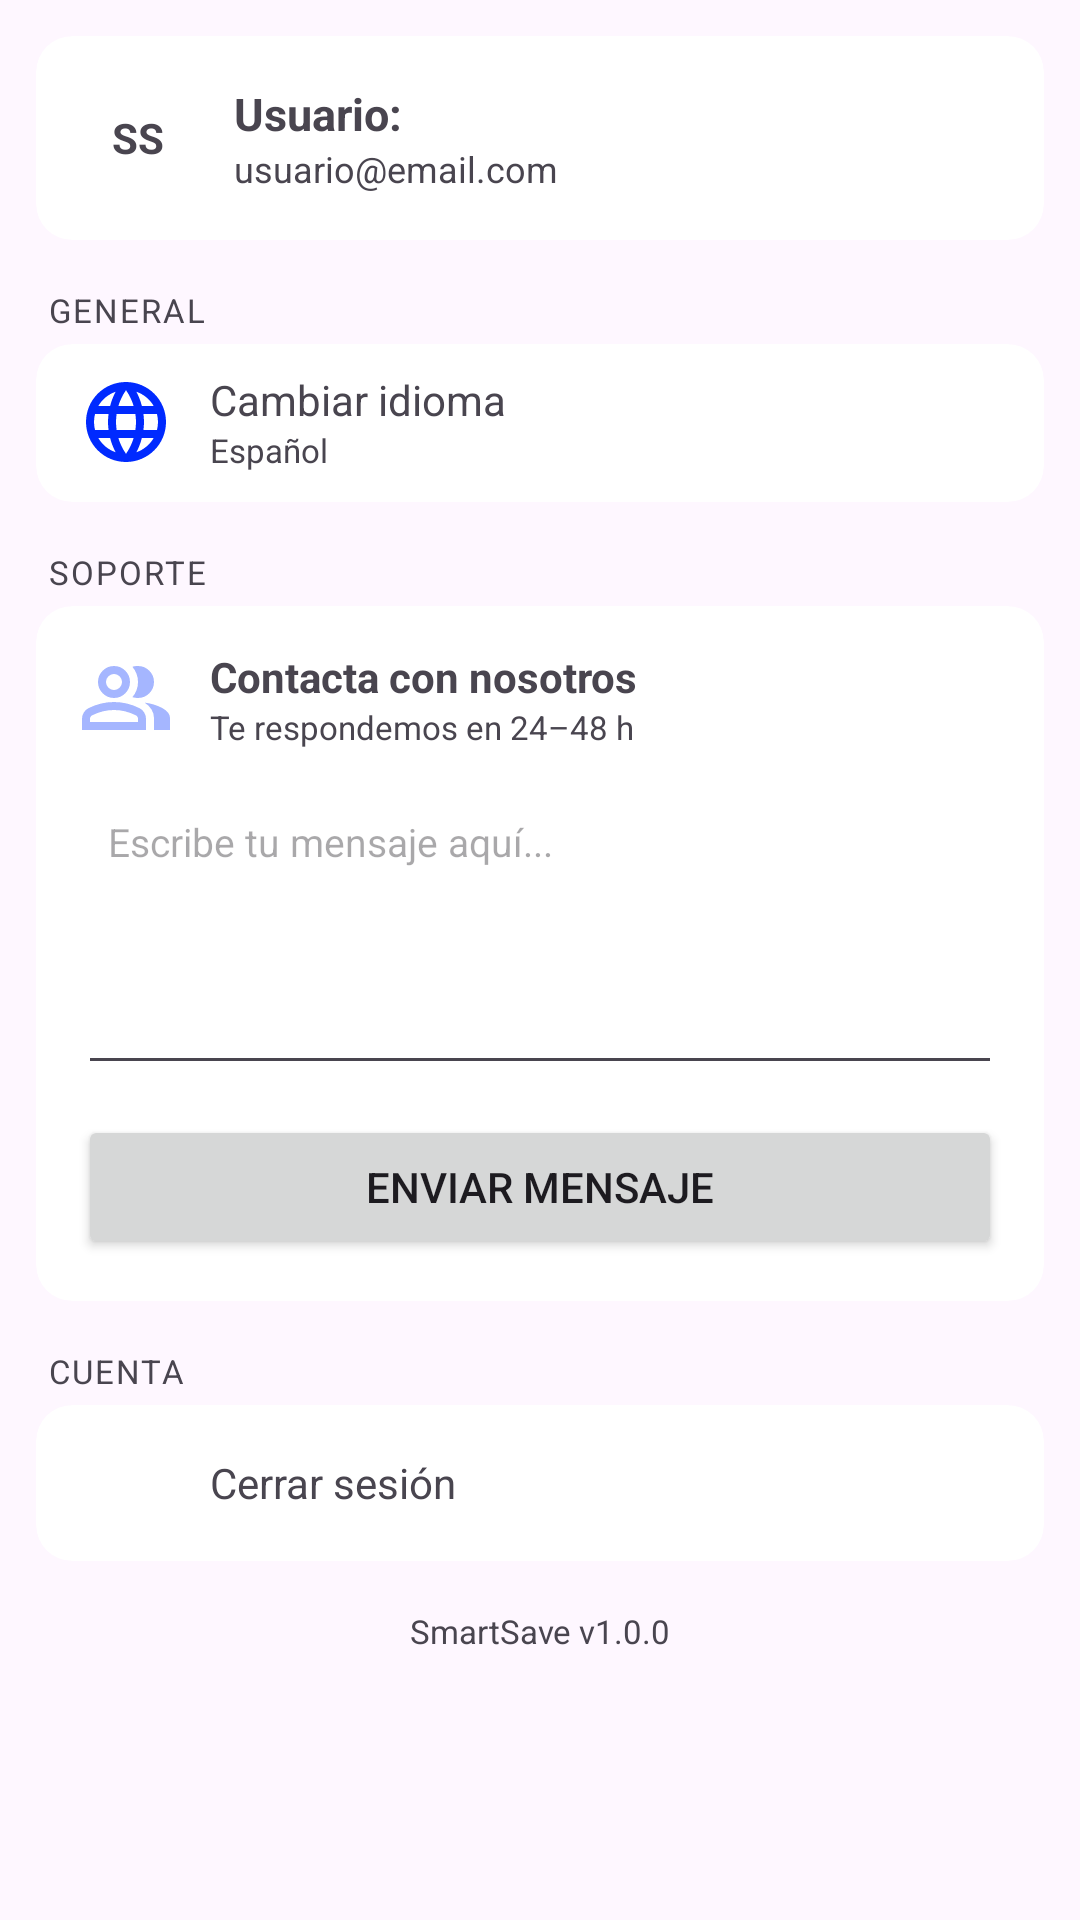

Screen size 1080px x 1920px. Icon name, then its center in pixels as (x=x, y=y):
idioma iv: (x=126, y=422)
